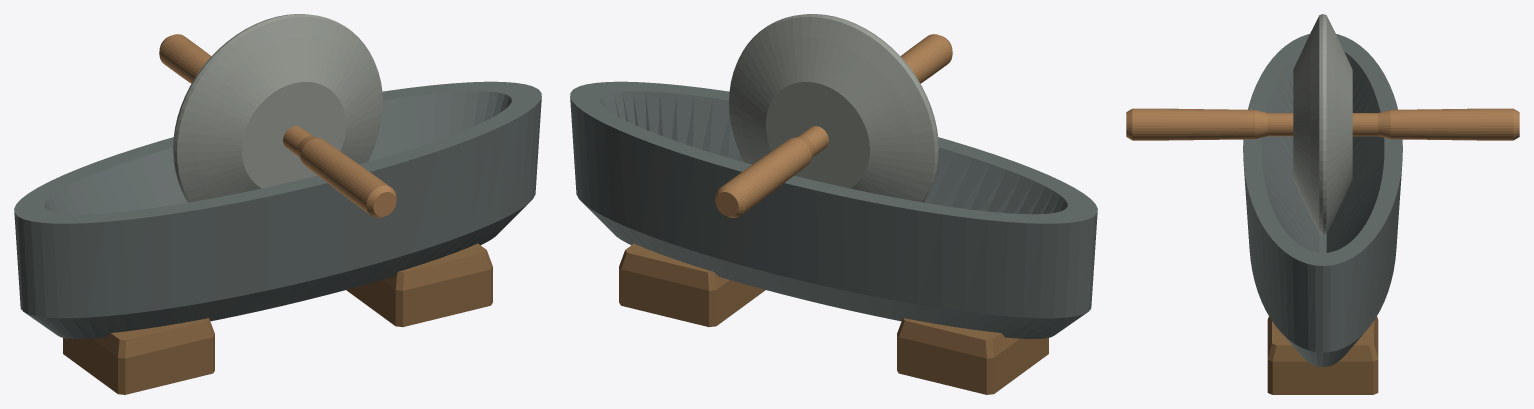
3 views of the same model, side by side, from view 1: azimuth 30°, elevation 25°; view 2: azimuth 150°, elevation 25°; view 3: azimuth 270°, elevation 25° (orthographic). The views are drawn at different scales.
Visible parts, largest first — view 1: WholeClosedBottomBoatAndDeepVRecess, WholeBoredLenticularGrindingDisc, WholeLeftGroundCrossShoe, WholeRightGroundCrossShoe, WholeTransverseShaftAndTwoIntegralHandGrips; view 2: WholeClosedBottomBoatAndDeepVRecess, WholeBoredLenticularGrindingDisc, WholeLeftGroundCrossShoe, WholeRightGroundCrossShoe, WholeTransverseShaftAndTwoIntegralHandGrips; view 3: WholeClosedBottomBoatAndDeepVRecess, WholeBoredLenticularGrindingDisc, WholeTransverseShaftAndTwoIntegralHandGrips, WholeRightGroundCrossShoe.
Boxes of the visible parts, bbox=[...] form: WholeClosedBottomBoatAndDeepVRecess: bbox=[14, 81, 541, 338]; WholeBoredLenticularGrindingDisc: bbox=[173, 14, 382, 202]; WholeLeftGroundCrossShoe: bbox=[63, 318, 214, 394]; WholeRightGroundCrossShoe: bbox=[346, 243, 492, 327]; WholeTransverseShaftAndTwoIntegralHandGrips: bbox=[159, 34, 396, 217]; WholeClosedBottomBoatAndDeepVRecess: bbox=[570, 81, 1097, 338]; WholeBoredLenticularGrindingDisc: bbox=[729, 14, 938, 202]; WholeLeftGroundCrossShoe: bbox=[897, 318, 1048, 394]; WholeRightGroundCrossShoe: bbox=[619, 243, 765, 327]; WholeTransverseShaftAndTwoIntegralHandGrips: bbox=[715, 34, 952, 217]; WholeClosedBottomBoatAndDeepVRecess: bbox=[1243, 34, 1402, 366]; WholeBoredLenticularGrindingDisc: bbox=[1293, 14, 1352, 234]; WholeTransverseShaftAndTwoIntegralHandGrips: bbox=[1126, 108, 1519, 140]; WholeRightGroundCrossShoe: bbox=[1267, 316, 1378, 394].
Bounding box in the file's own units: 0.45 × 0.257 × 0.32.
